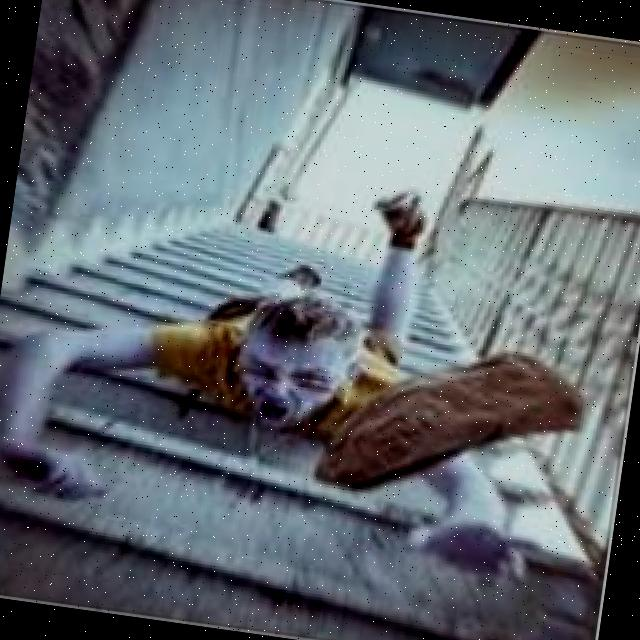stairs: (0, 115, 640, 640)
